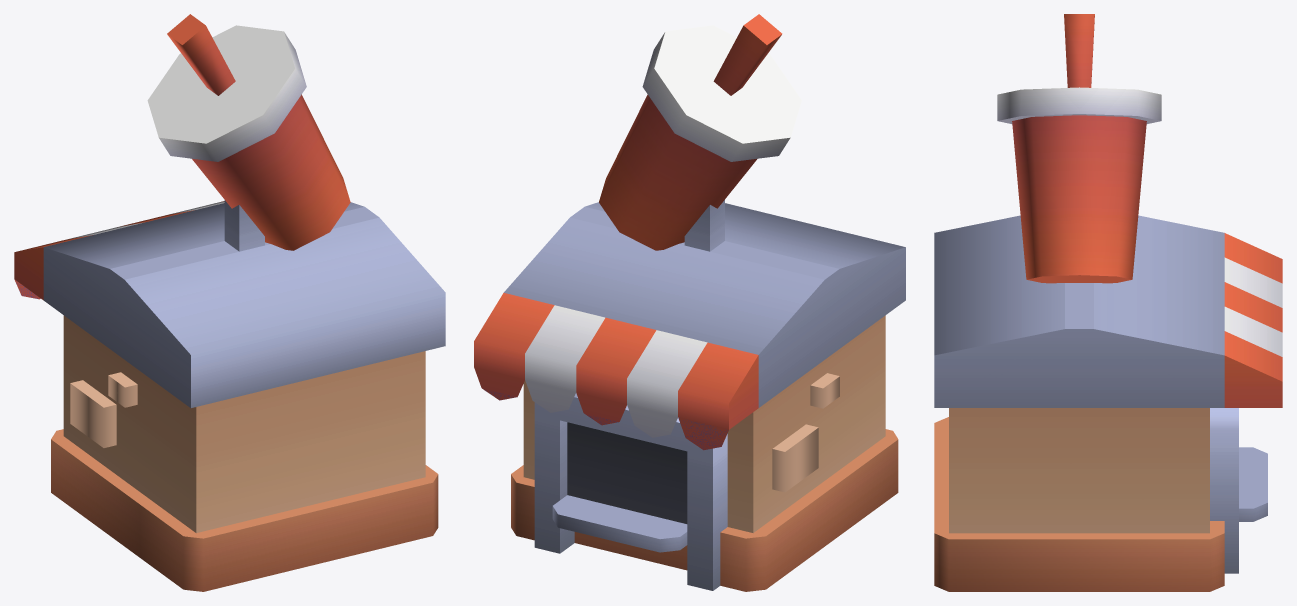
File: k-coaster-stall-drinks.glb
3 views of the same model, side by side, from view 1: azimuth 30°, elevation 25°; view 2: azimuth 150°, elevation 25°; view 3: azimuth 270°, elevation 25° (orthographic).
Parts seen in each view (by area): view 1: stall-drinks; view 2: stall-drinks; view 3: stall-drinks.
Part boxes in pixels (x1,y1,x2,y2): stall-drinks: (14,14,445,591); stall-drinks: (474,14,905,591); stall-drinks: (934,14,1282,591).
Bounding box in the file's own units: 0.9999 × 1.88 × 1.2.
Materials: 1 (1 with a texture image).
